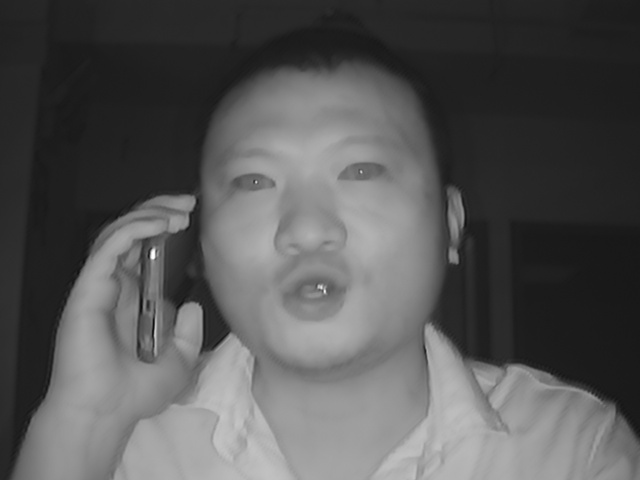hand: (50, 191, 204, 419)
